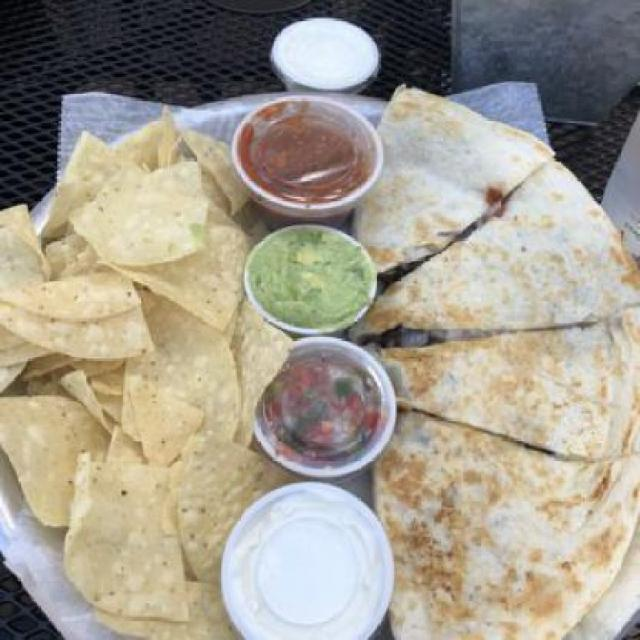chicken quesadilla: (356, 66, 638, 639)
guacamole: (238, 213, 374, 336)
nachos: (2, 99, 267, 638)
